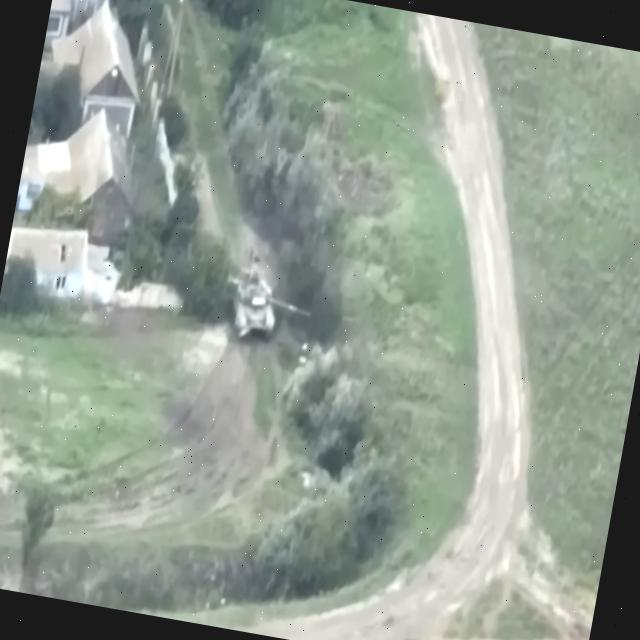AIFV: (213, 261, 321, 354)
